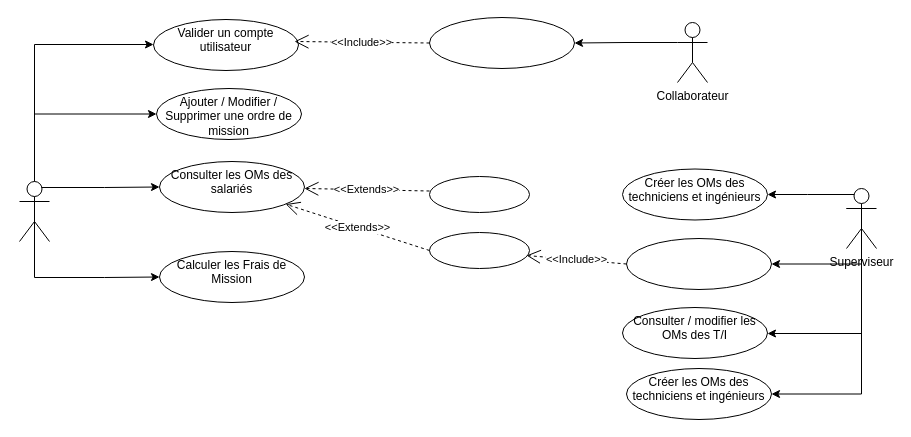
Some shapes in this 911 by 437 pixel diagram are drawn without their labels. Here are the shapes that lost their labels. From the top down, the box of each, then its label:
(428, 16, 574, 68): Créer son espace de travail
(18, 180, 50, 242): Admin
(428, 176, 530, 212): Imprimer l'OM
(428, 232, 530, 268): Valider l'OM
(626, 238, 772, 290): Valider les OMs des T/I
